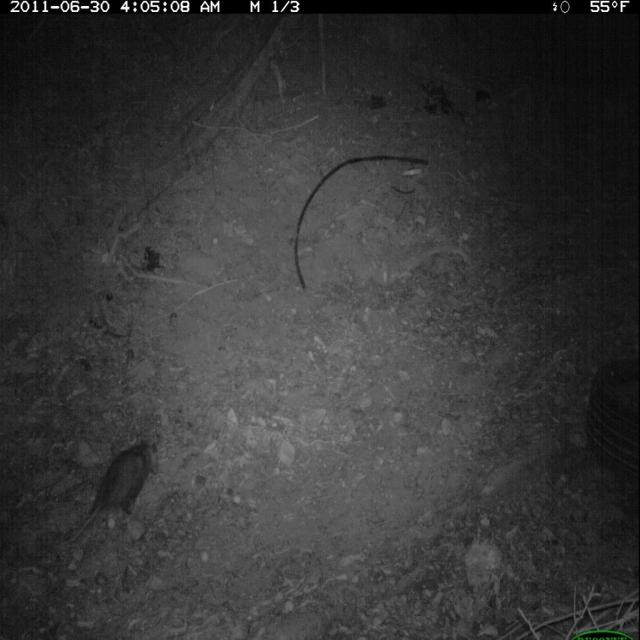opossum: (67, 436, 163, 550)
